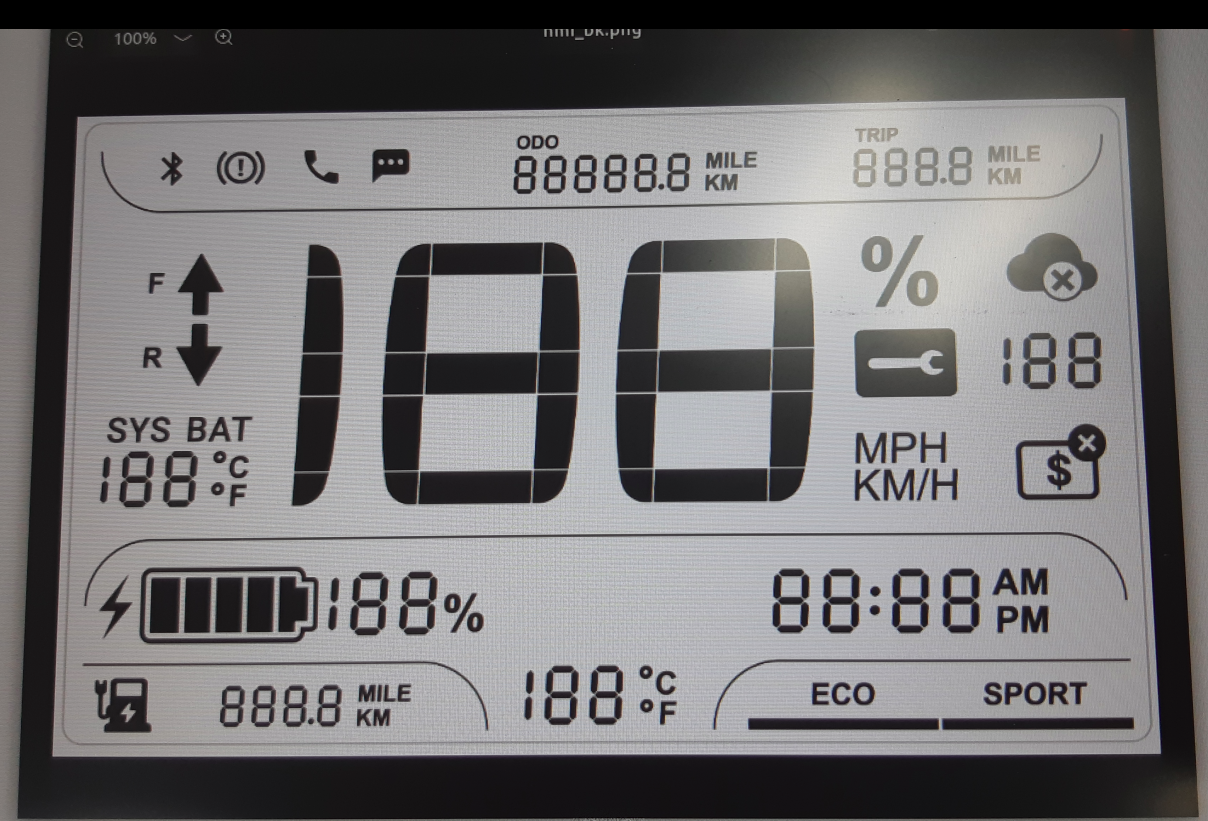bluetooth_on: (154, 147, 188, 190)
braking_on: (213, 145, 267, 189)
calling_on: (301, 145, 345, 188)
connection_lost: (1001, 230, 1105, 307)
error_code: (848, 322, 961, 404)
low_battery: (90, 672, 155, 737)
sms_on: (367, 145, 414, 185)
vin_id: (1011, 417, 1111, 506)
